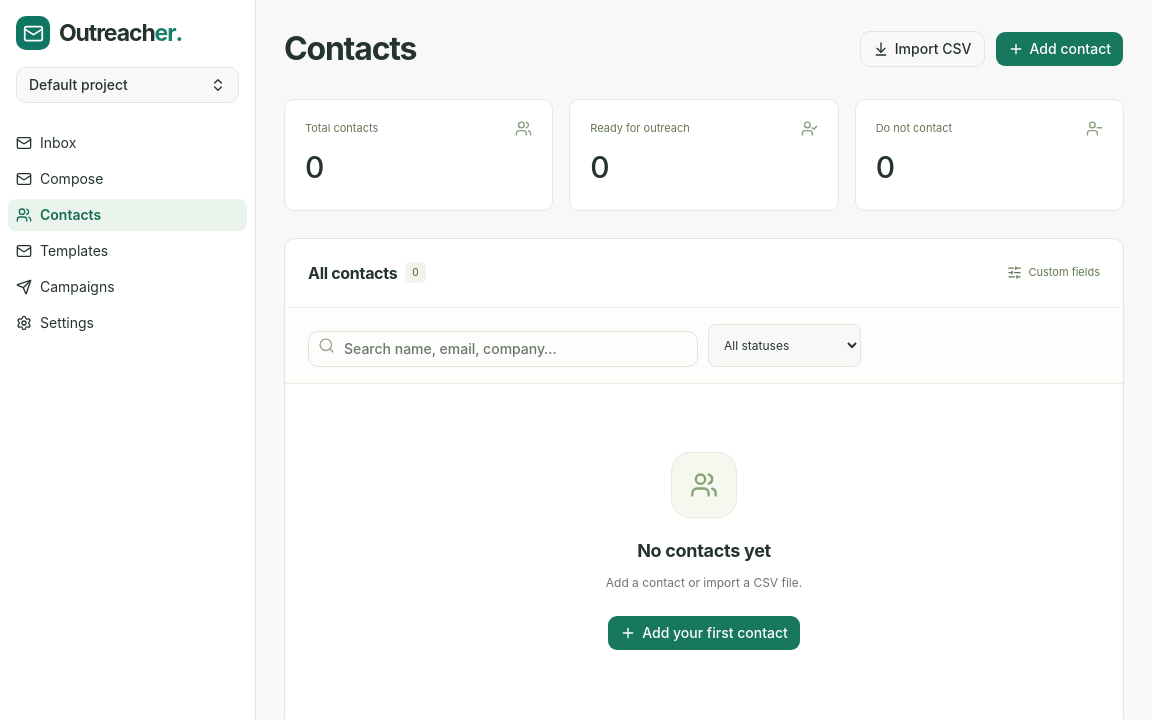
Test: Project navigation › creates a project inside the sidebar switcher and opens it
The image size is (1152, 720).
Click the button with aria-label "Switch project: Default project" at {"x": 128, "y": 84}, box 16,66 -> 239,102
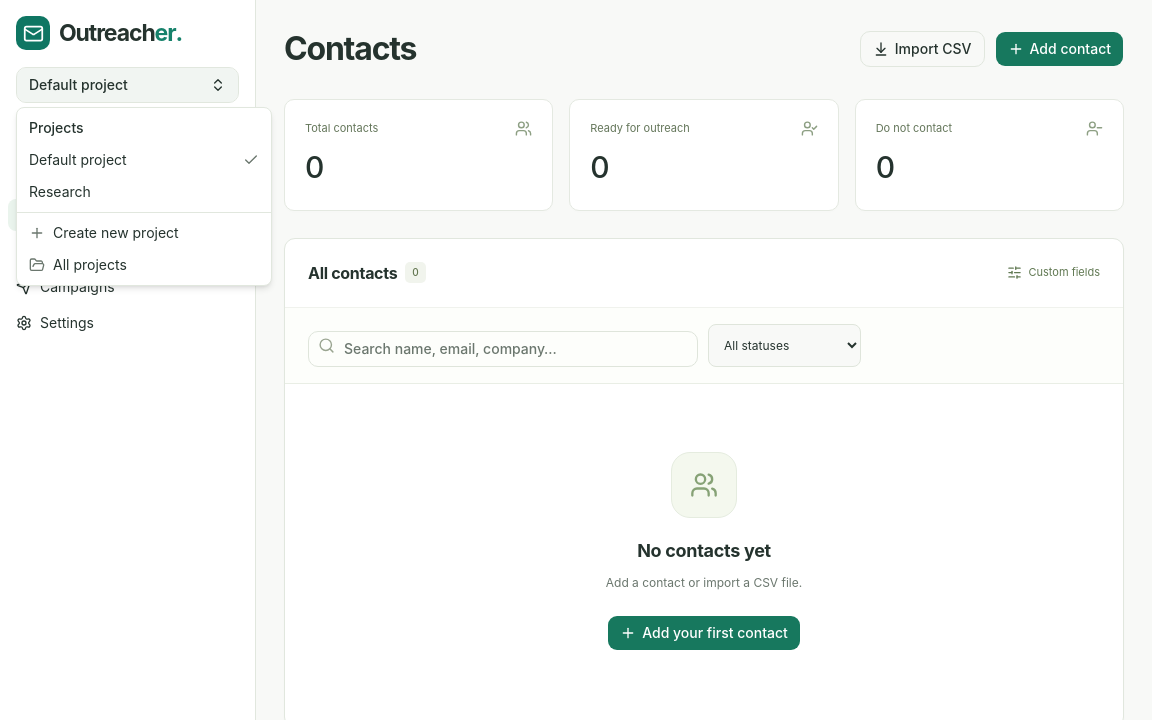
Click the menu item "Create new project" at {"x": 104, "y": 232}, box 29,224 -> 179,241
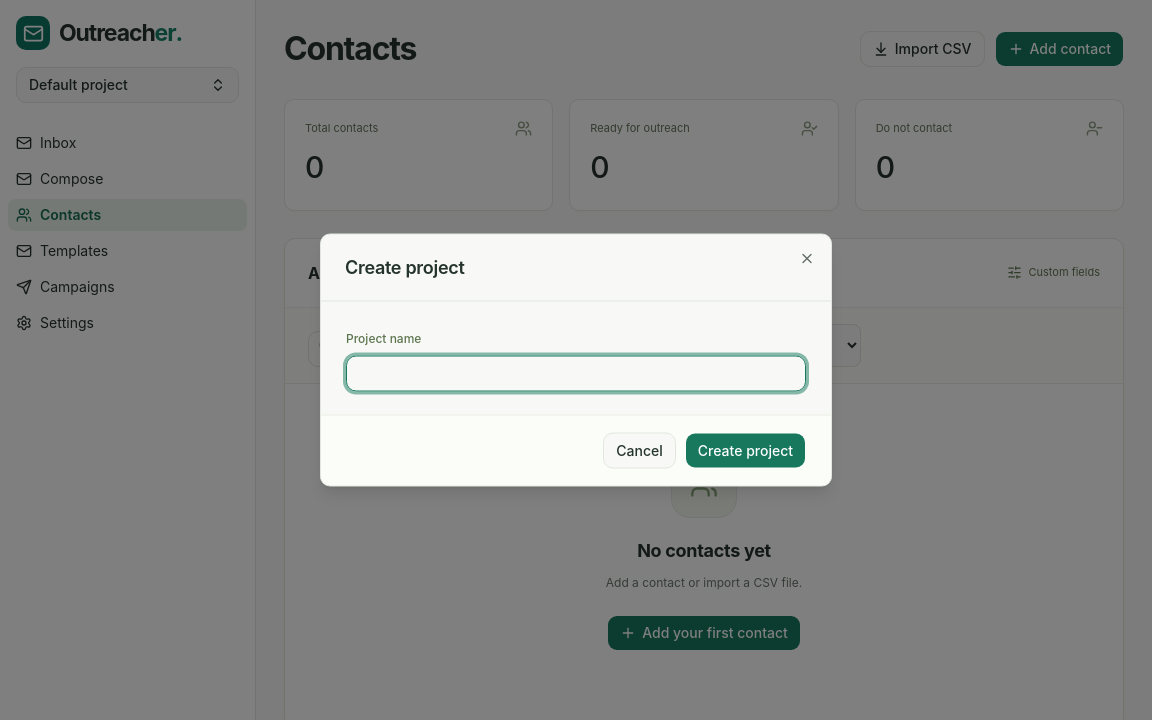
Type "New project" into the field labelled "Project name" at {"x": 576, "y": 374}, box 346,356 -> 806,392
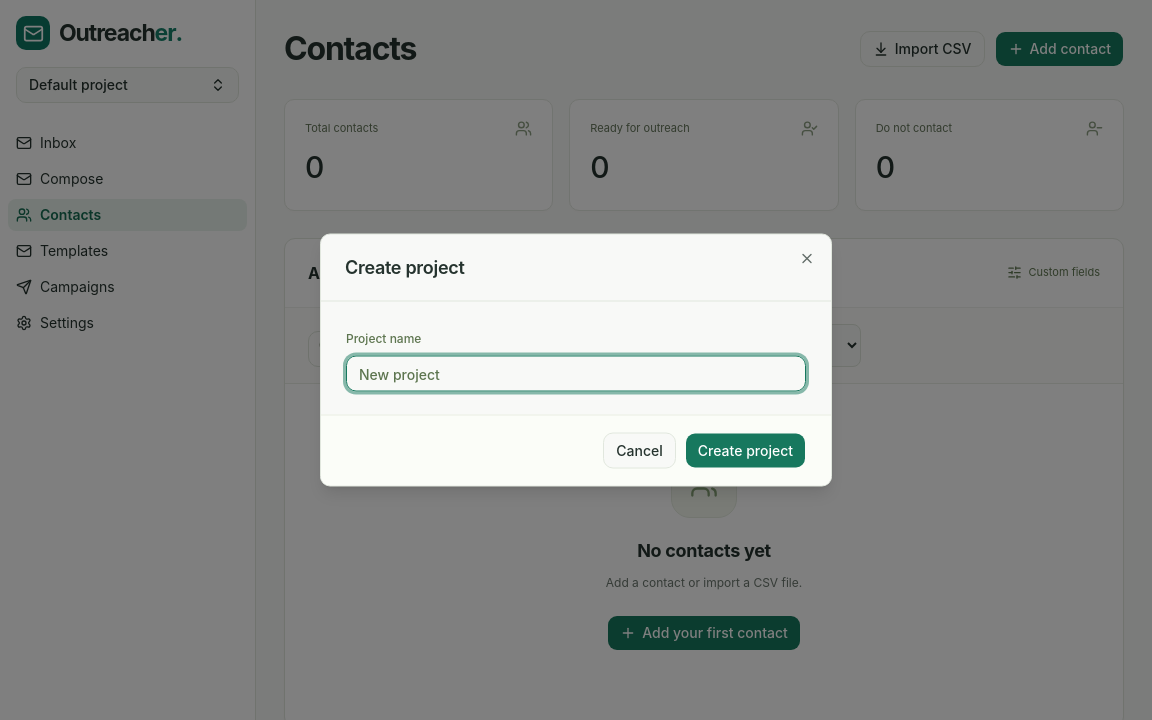
Click the button "Create project" at {"x": 745, "y": 450}, box 685,432 -> 806,468
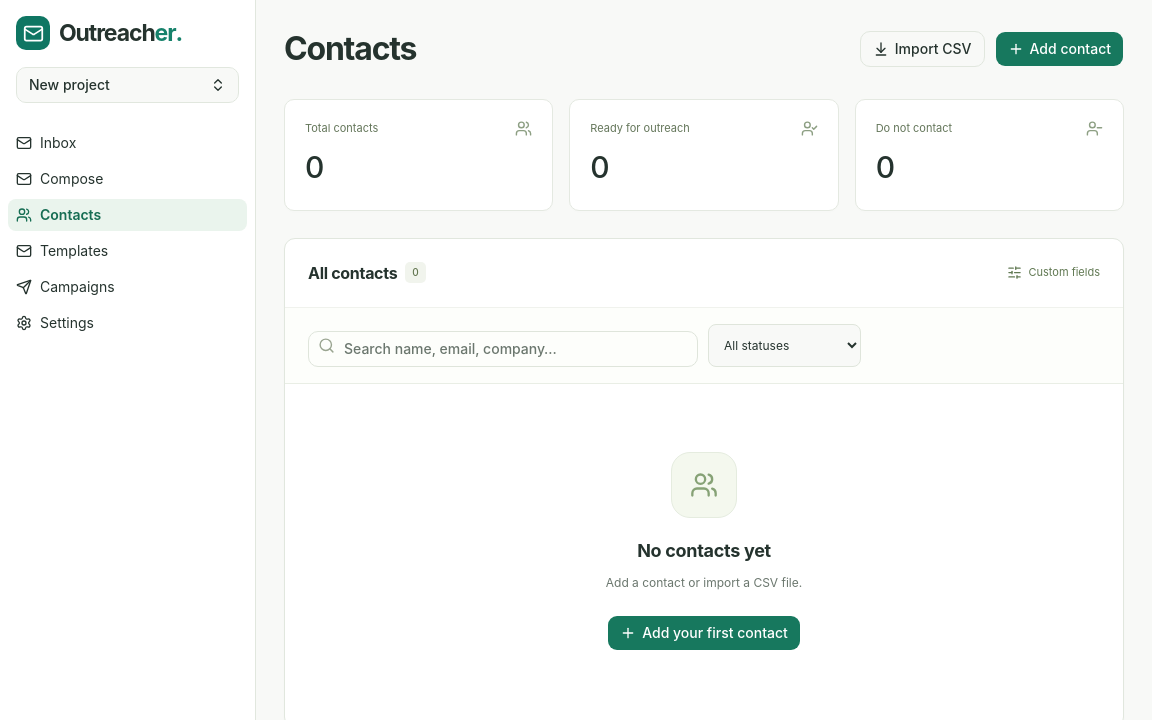
Check: the button with aria-label "Switch project: New project" is shown, box 16,66 -> 239,102
